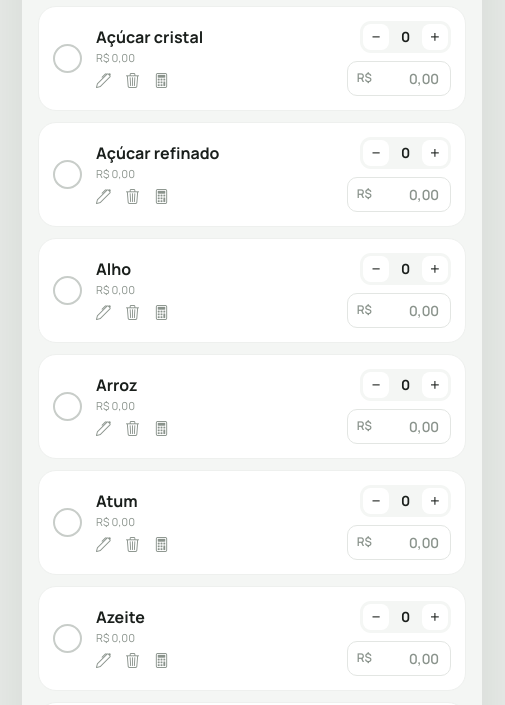
Test: sincroniza com outra aba que salvou a lista
(page scrolled)
Click the button named "Aumentar Arroz" at (435,385), box [422,372,448,398]
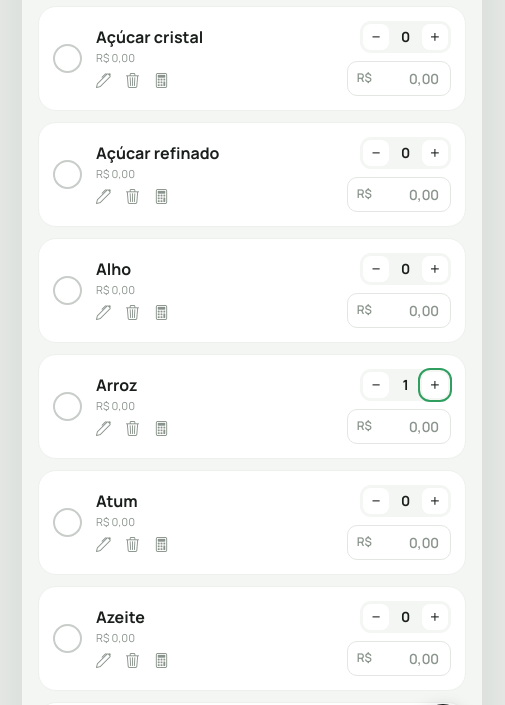
Result: the text named "Quantidade de Arroz" reads "1" at [401,375,410,394]
